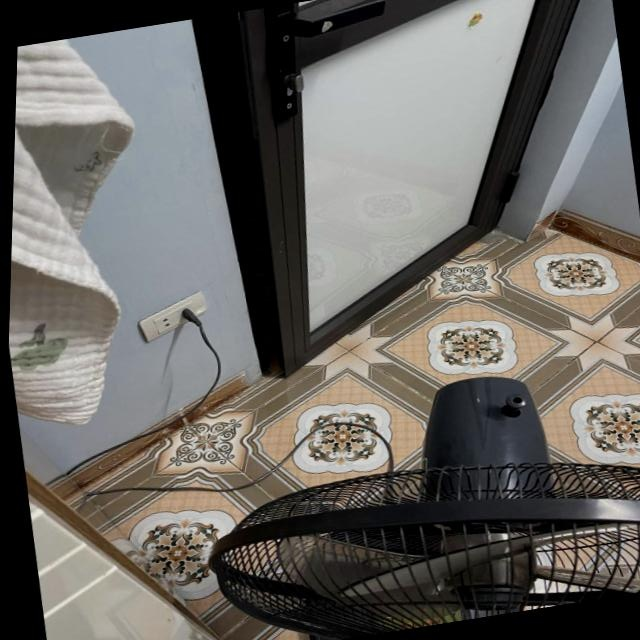outlet: (133, 290, 212, 346)
